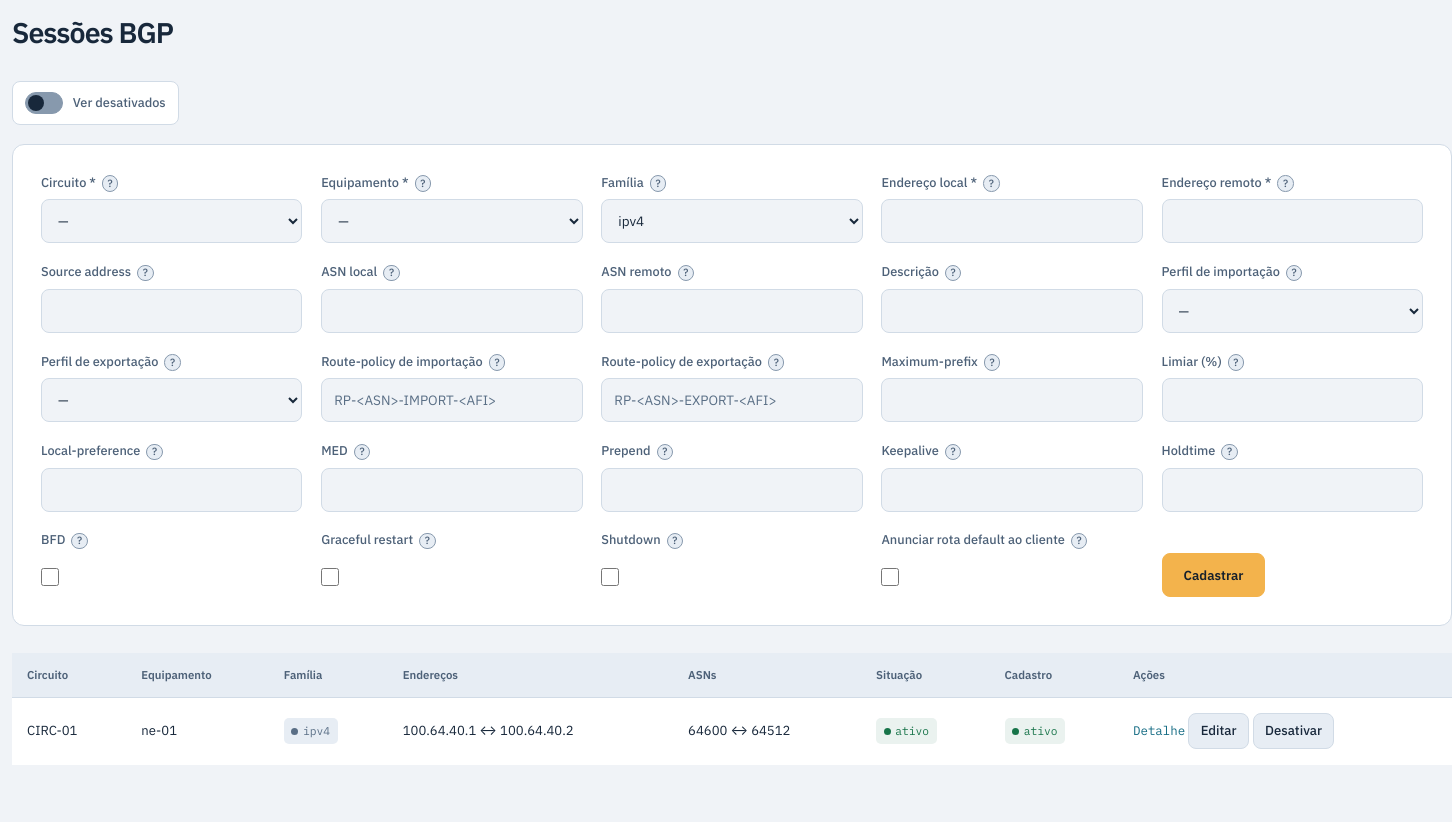
BgpSessions › trocar a família preenche o par v6 sem a máscara /126
Expected: the text "100.64.40.1 ↔ 100.64.40.2" is shown, [388,697,673,765]
Select "CIRC-01" in the dropdown labelled "Circuito * ?" at (172, 221), box [41,199,302,243]
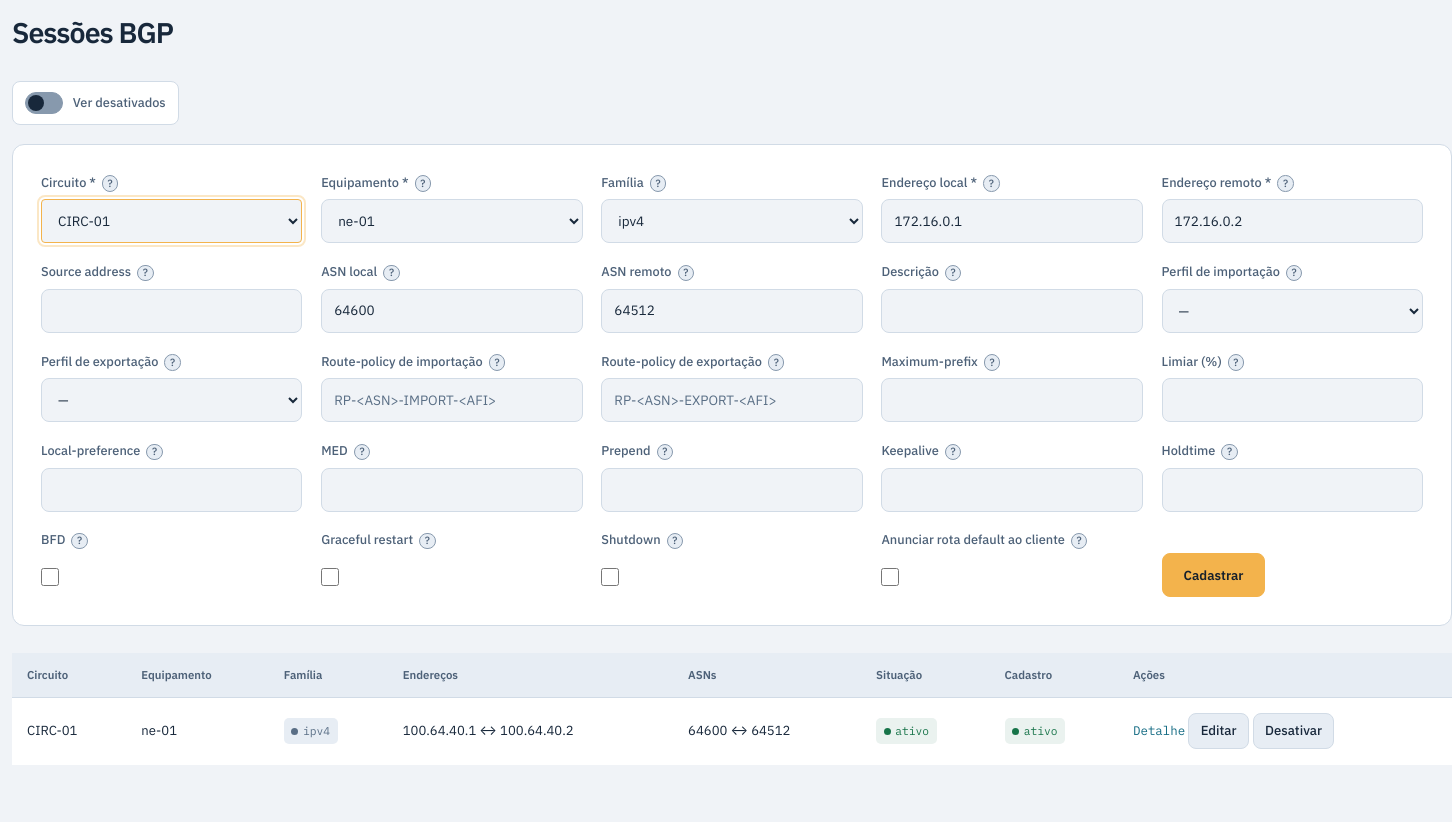
Now the field labelled "Endereço local * ?" holds "172.16.0.1", box [881,199,1143,243]
Select "ipv6" in the dropdown labelled "Família ?" at (732, 221), box [601,199,863,243]
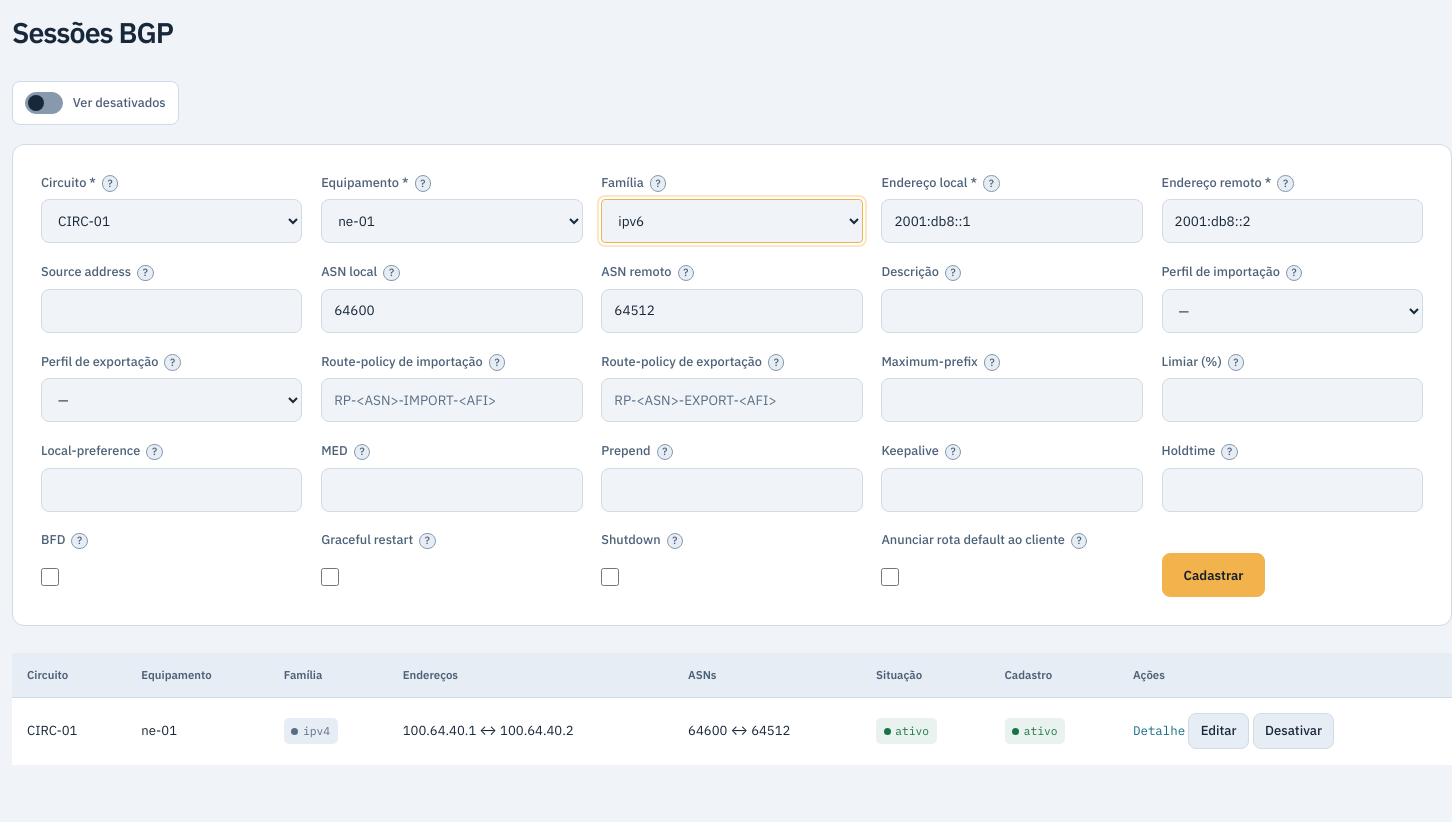
Now the field labelled "Endereço local * ?" holds "2001:db8::1", box [881,199,1143,243]
Now the field labelled "Endereço remoto * ?" holds "2001:db8::2", box [1162,199,1423,243]
